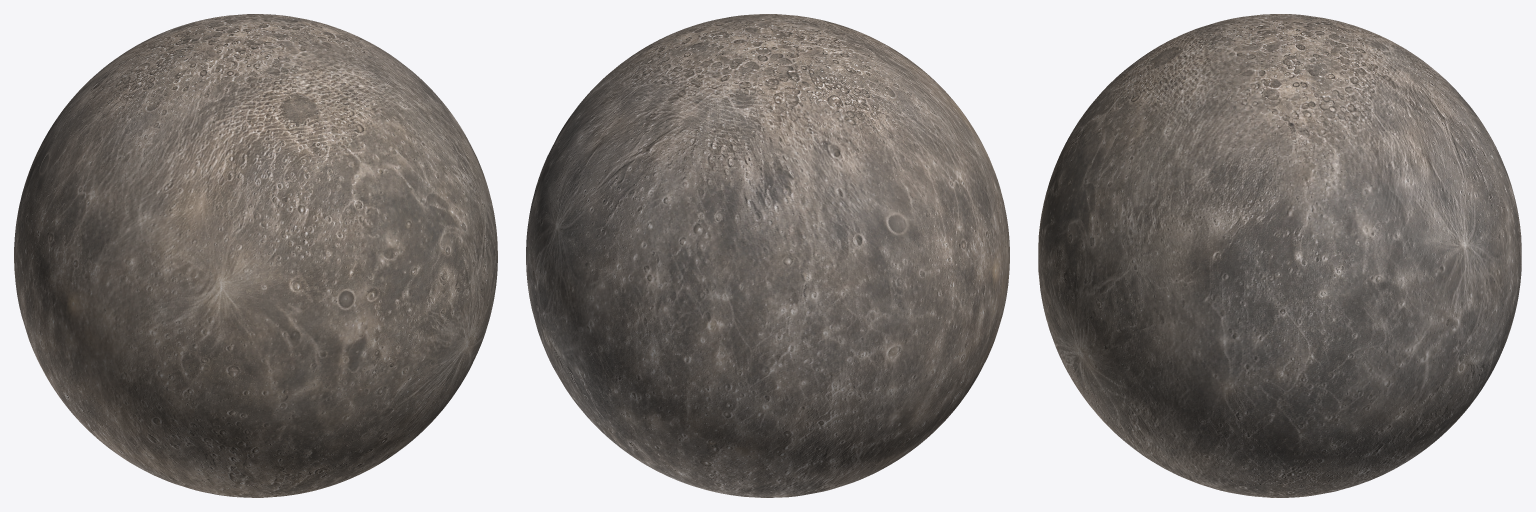
File: PlanetMercury.glb
3 views of the same model, side by side, from view 1: azimuth 30°, elevation 25°; view 2: azimuth 150°, elevation 25°; view 3: azimuth 270°, elevation 25° (orthographic).
Parts seen in each view (by area): view 1: Mercury; view 2: Mercury; view 3: Mercury.
Boxes of the visible parts, x1,y1,x2,y2 form: Mercury: (14,14,497,497); Mercury: (526,14,1009,497); Mercury: (1038,14,1521,497).
Bounding box in the file's own units: 2 × 2 × 2.
1 material, 1 textured.
